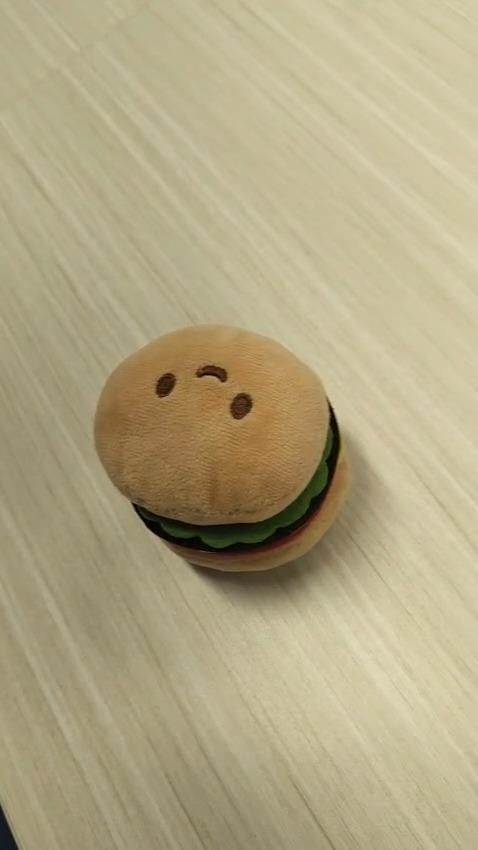hamburger: (92, 322, 351, 573)
